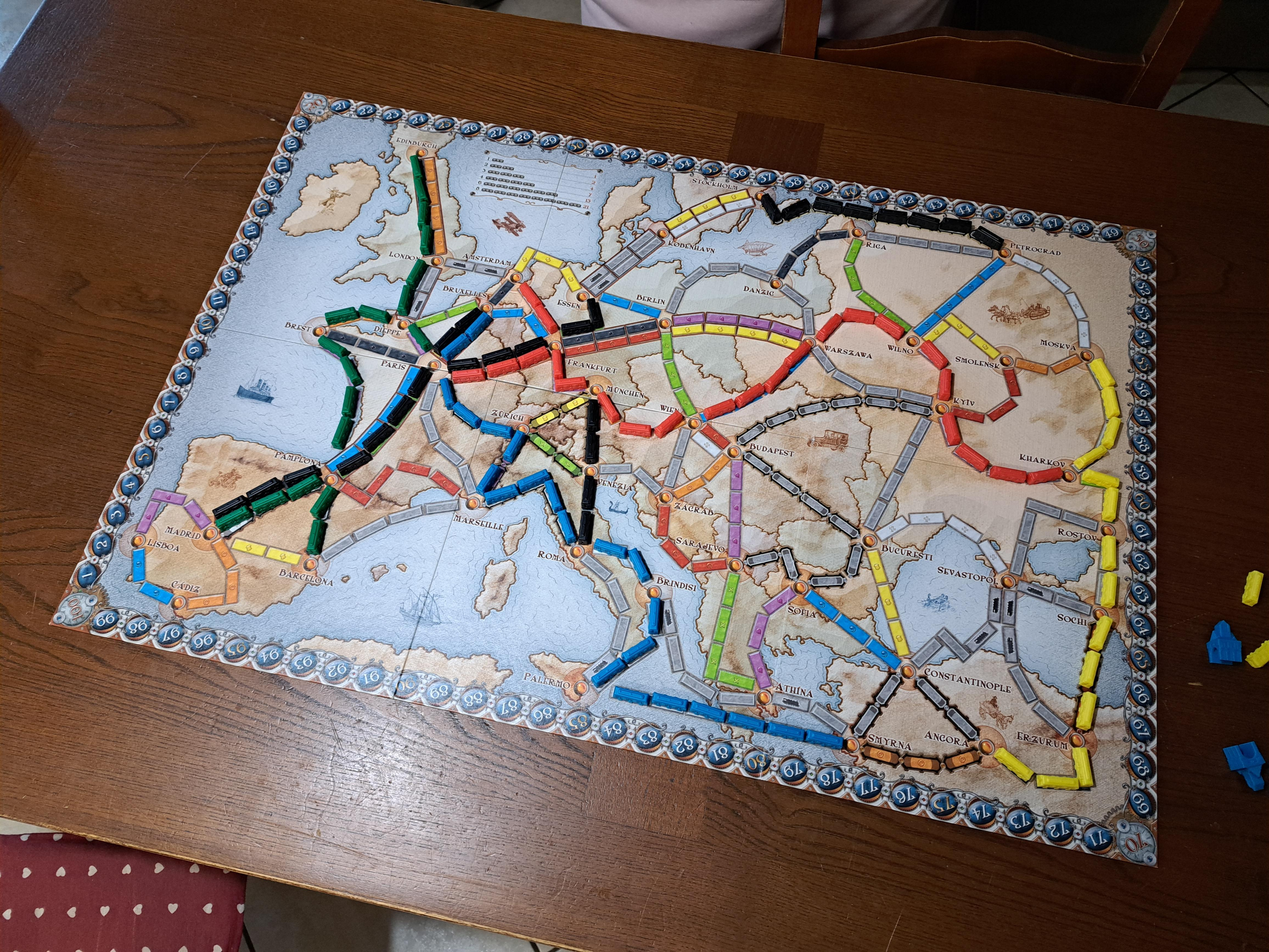corner_bl: (50, 589, 101, 632)
corner_br: (1113, 818, 1157, 868)
corner_tl: (294, 91, 332, 121)
corner_tr: (1124, 226, 1156, 256)
